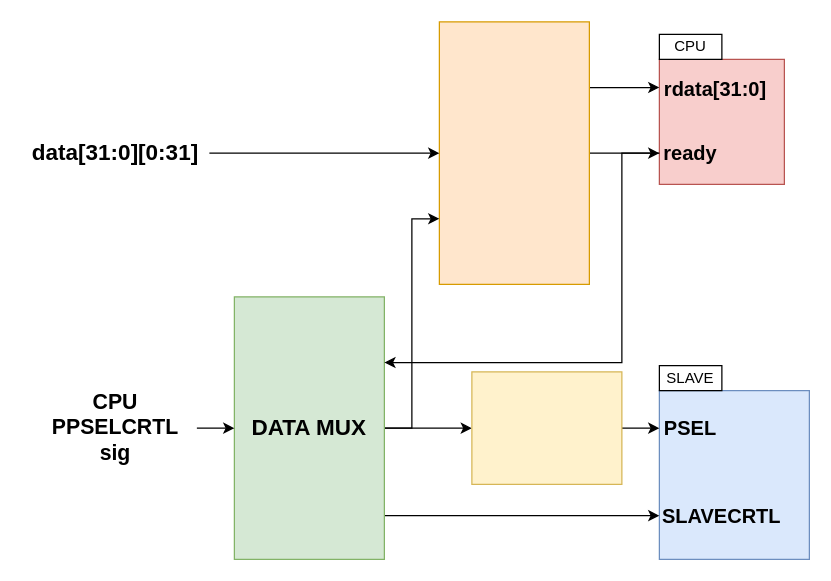
Image size: 831x581. Some labels were removed from this diagram. The centre of each missing label's shape, as x and y in pixels:
"CU" belongs at (513,152).
"SEL DECODER" belongs at (546,427).
